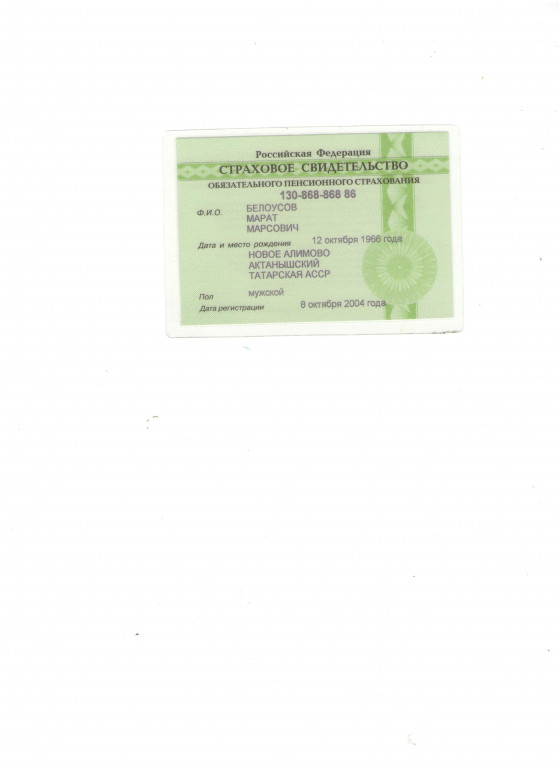text: (247, 248, 335, 282), (310, 234, 404, 246), (297, 298, 389, 310), (276, 187, 360, 200), (243, 222, 301, 234), (244, 202, 301, 212), (247, 287, 286, 298), (243, 212, 281, 223)
